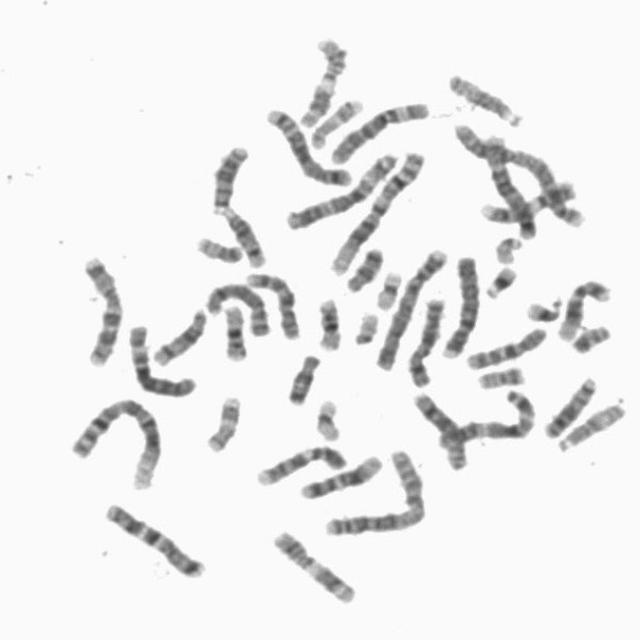A1: (323, 143, 427, 277), (63, 388, 165, 492)
A2: (446, 115, 588, 230), (318, 443, 429, 538)
A3: (280, 145, 402, 232), (430, 383, 540, 449)
B4: (369, 241, 450, 372), (436, 248, 482, 360)
B5: (260, 100, 354, 188), (475, 124, 541, 240)
C10: (239, 265, 304, 341), (460, 320, 551, 371)
C11: (264, 523, 361, 607), (292, 30, 350, 128)
C12: (294, 448, 386, 500), (552, 272, 615, 342)
C6: (324, 93, 432, 165), (122, 317, 200, 399)
C7: (98, 495, 208, 580), (74, 247, 126, 369)
C8: (406, 386, 471, 472), (199, 275, 274, 338)
C9: (475, 174, 580, 225), (250, 437, 350, 488)
D13: (537, 369, 601, 440), (205, 137, 252, 215)
D14: (147, 300, 211, 367), (216, 201, 268, 269)
D15: (441, 64, 527, 128), (552, 394, 630, 454)
E16: (310, 290, 345, 352), (217, 298, 250, 362)
E17: (304, 91, 366, 150), (199, 388, 244, 454)
E18: (280, 346, 324, 406), (341, 240, 387, 294)
F19: (309, 392, 344, 442), (369, 264, 405, 311)
F20: (190, 229, 246, 265), (471, 359, 528, 391)
G21: (479, 258, 521, 300), (519, 290, 565, 324)
G22: (347, 306, 382, 346), (489, 229, 527, 265)
X: (401, 292, 448, 388)
